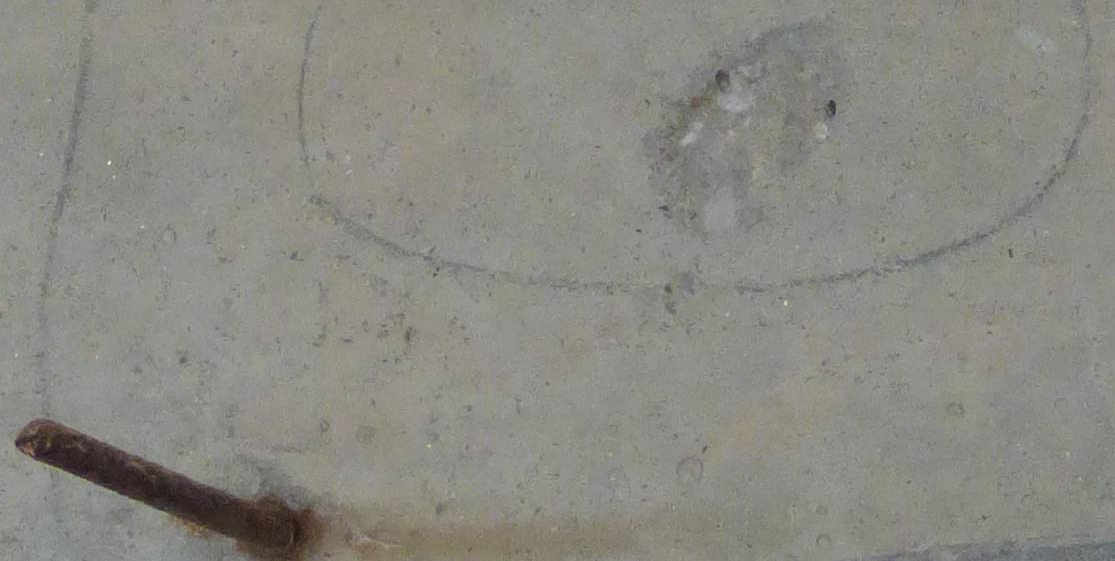Exposed reinforcement: (14, 417, 295, 553)
Spalling: (642, 14, 853, 247)
